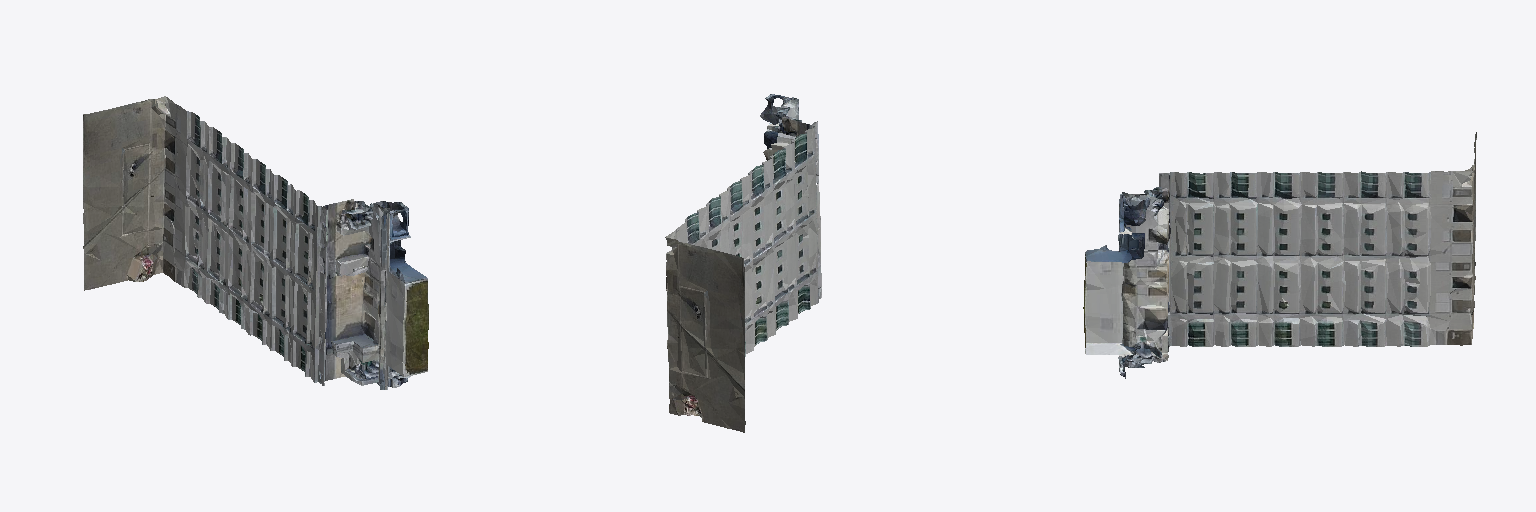
3 renders of one model, left to right at view 1: azimuth 30°, elevation 25°; view 2: azimuth 150°, elevation 25°; view 3: azimuth 270°, elevation 25°, orthographic.
Visible parts, largest first — view 1: obj_0; view 2: obj_0; view 3: obj_0.
Boxes of the visible parts, x1=… form: obj_0: x1=83, y1=96, x2=428, y2=389; obj_0: x1=665, y1=94, x2=821, y2=432; obj_0: x1=1083, y1=132, x2=1476, y2=378.
Size of the model in its own units: 20.08 by 22.53 by 45.75.
1 materials, 1 textured.